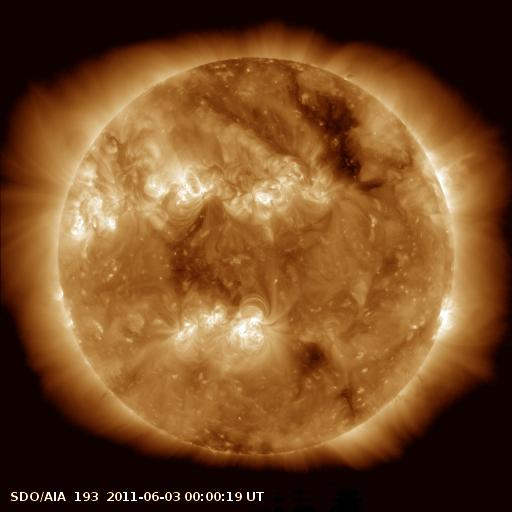coronal_hole: (288, 72, 388, 191), (290, 339, 334, 380)
